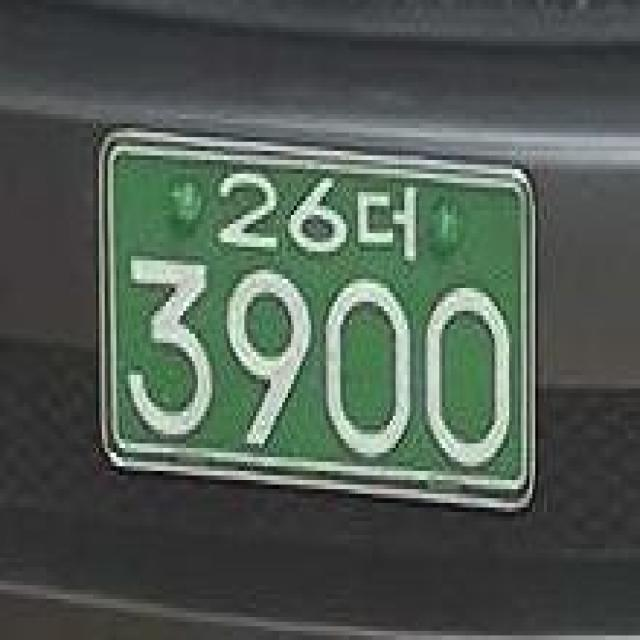illegal_plate: (79, 115, 553, 526)
